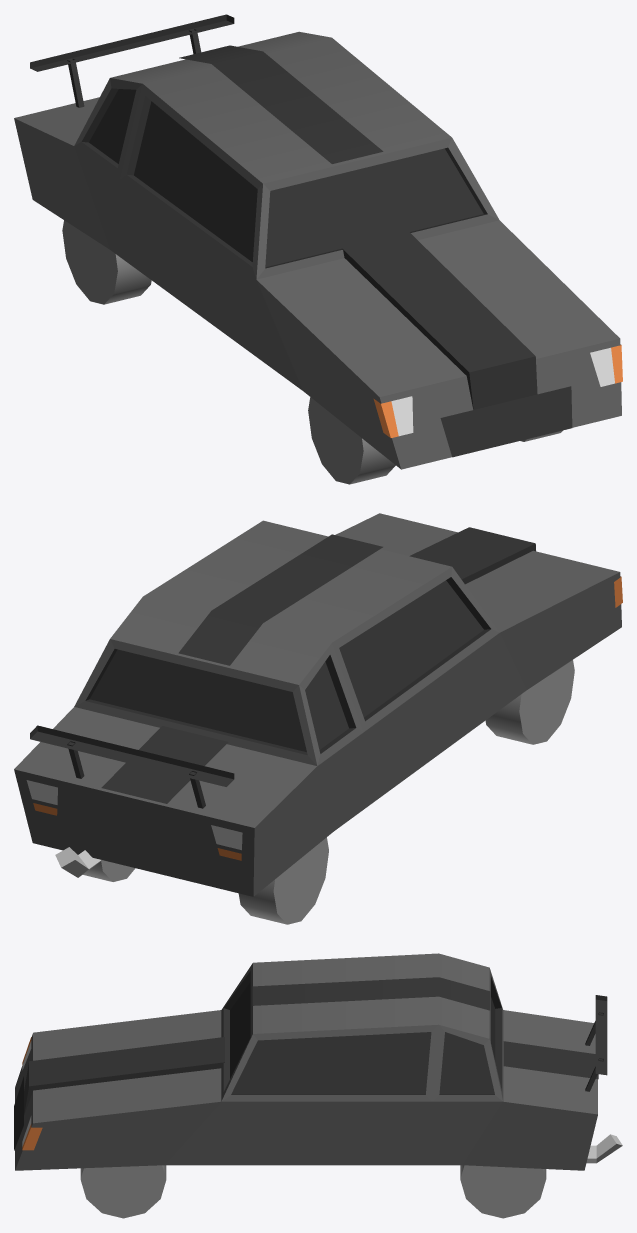
The model's file is sportscar_09.fbx.
3 renders of one model, top to bottom at view 1: azimuth 30°, elevation 25°; view 2: azimuth 150°, elevation 25°; view 3: azimuth 270°, elevation 25°, orthographic. The views are drawn at different scales.
Parts seen in each view (by area): view 1: sportscar_09; view 2: sportscar_09; view 3: sportscar_09.
Boxes of the visible parts, bbox=[...] form: sportscar_09: bbox=[14, 14, 622, 484]; sportscar_09: bbox=[14, 513, 622, 924]; sportscar_09: bbox=[14, 953, 622, 1218].
Size of the model in its own units: 1.6 by 1.56 by 4.49.
